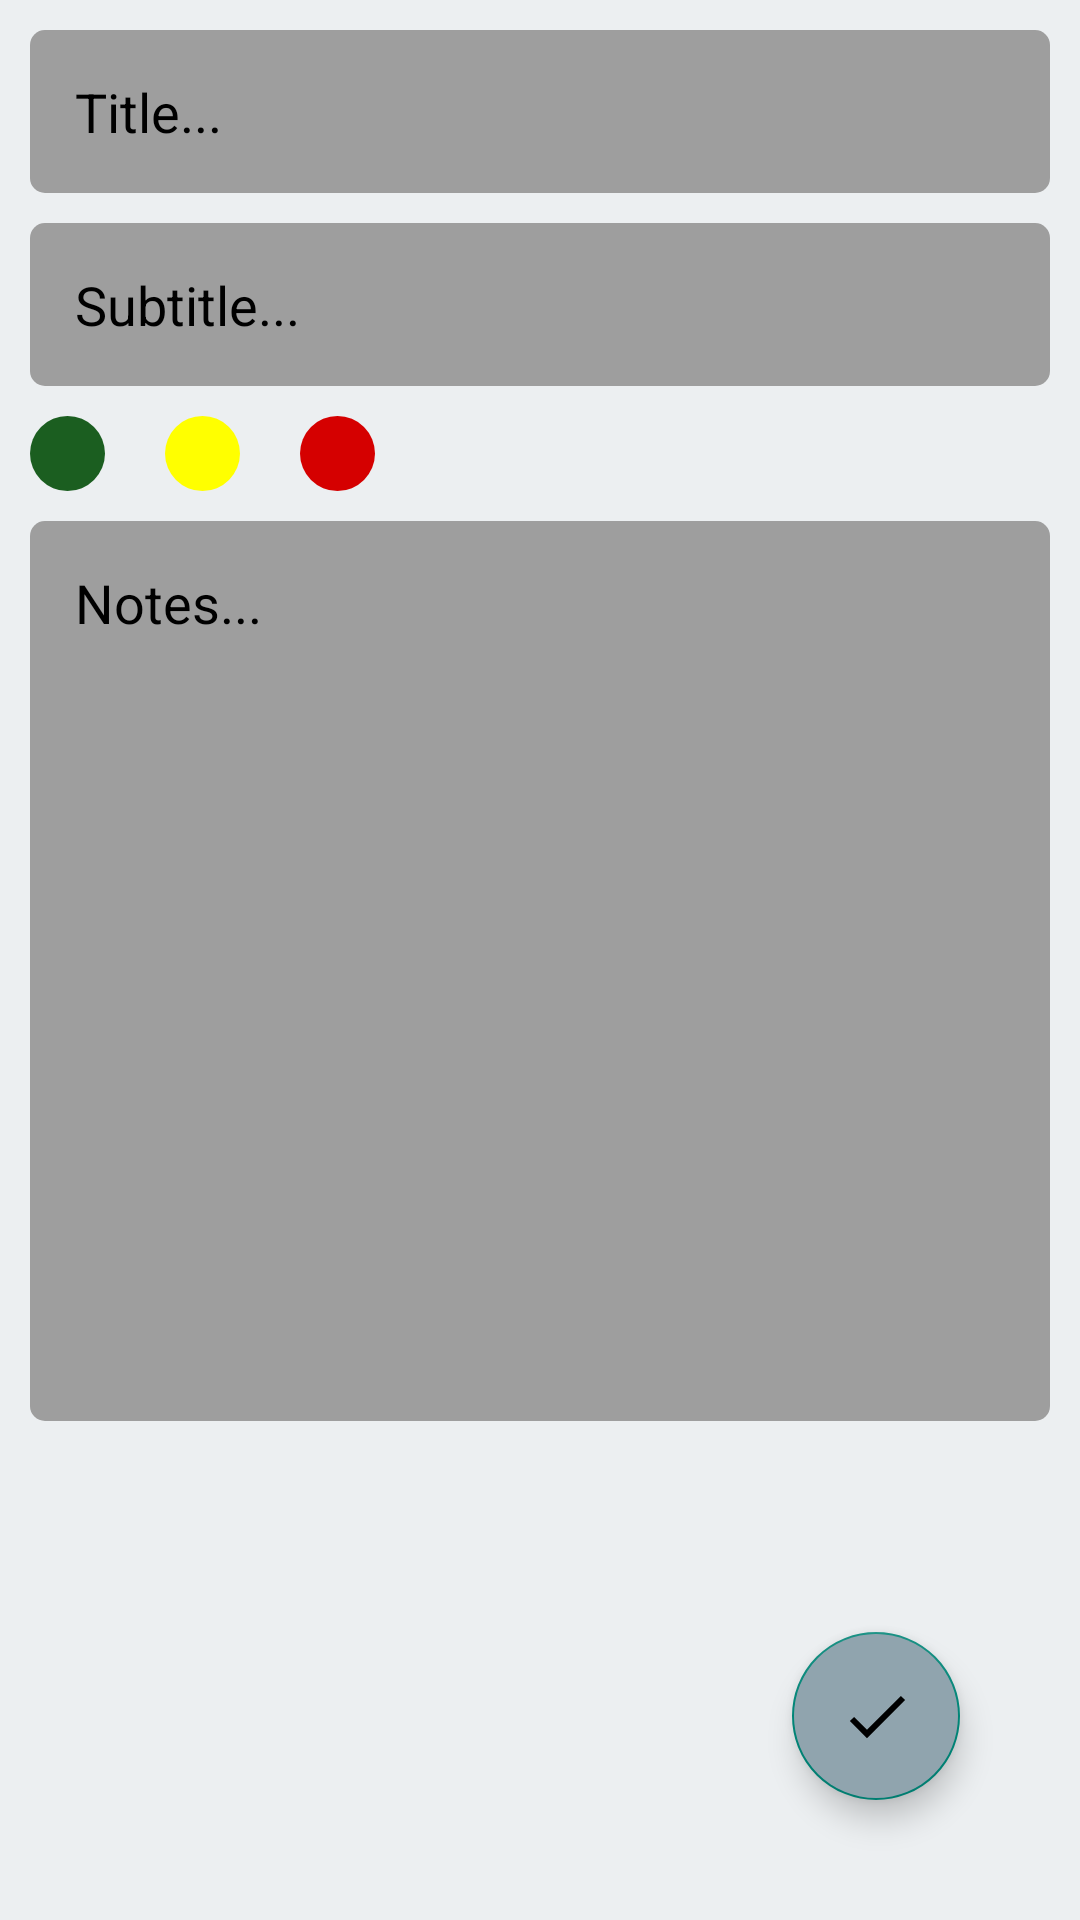

Screen size 1080×1920. Icon name, then its center in pixels as (x=x, y=y):
dot: (x=67, y=453), (x=202, y=453), (x=337, y=453)
